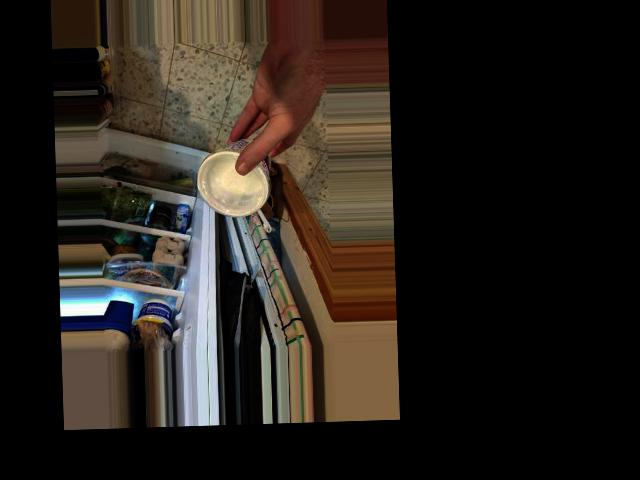cotage: (203, 135, 272, 222)
